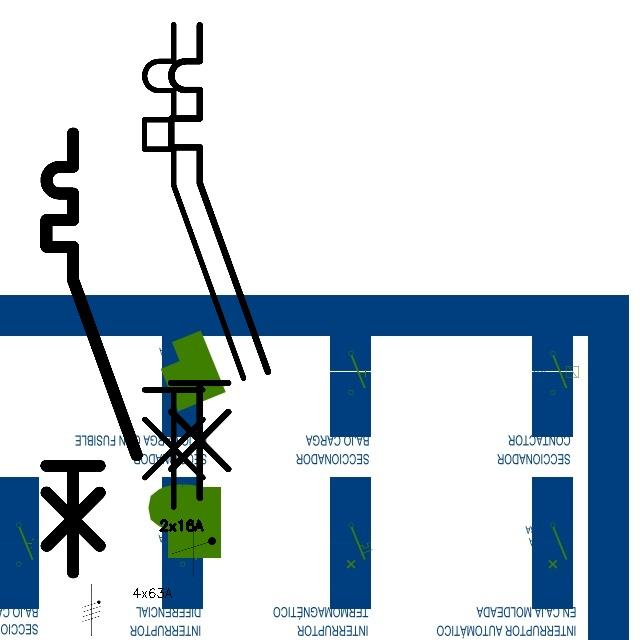interruptor_termomagnetico: (132, 12, 256, 519), (159, 13, 280, 509), (35, 122, 148, 584)
